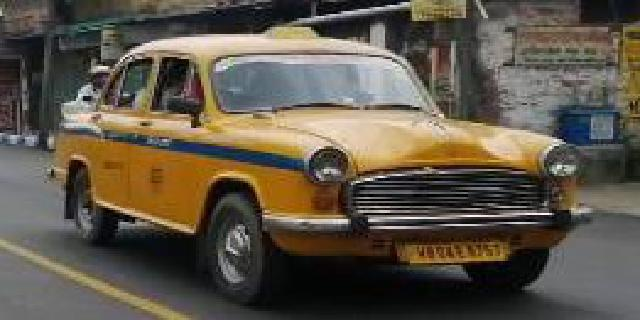Car: (43, 26, 593, 297)
